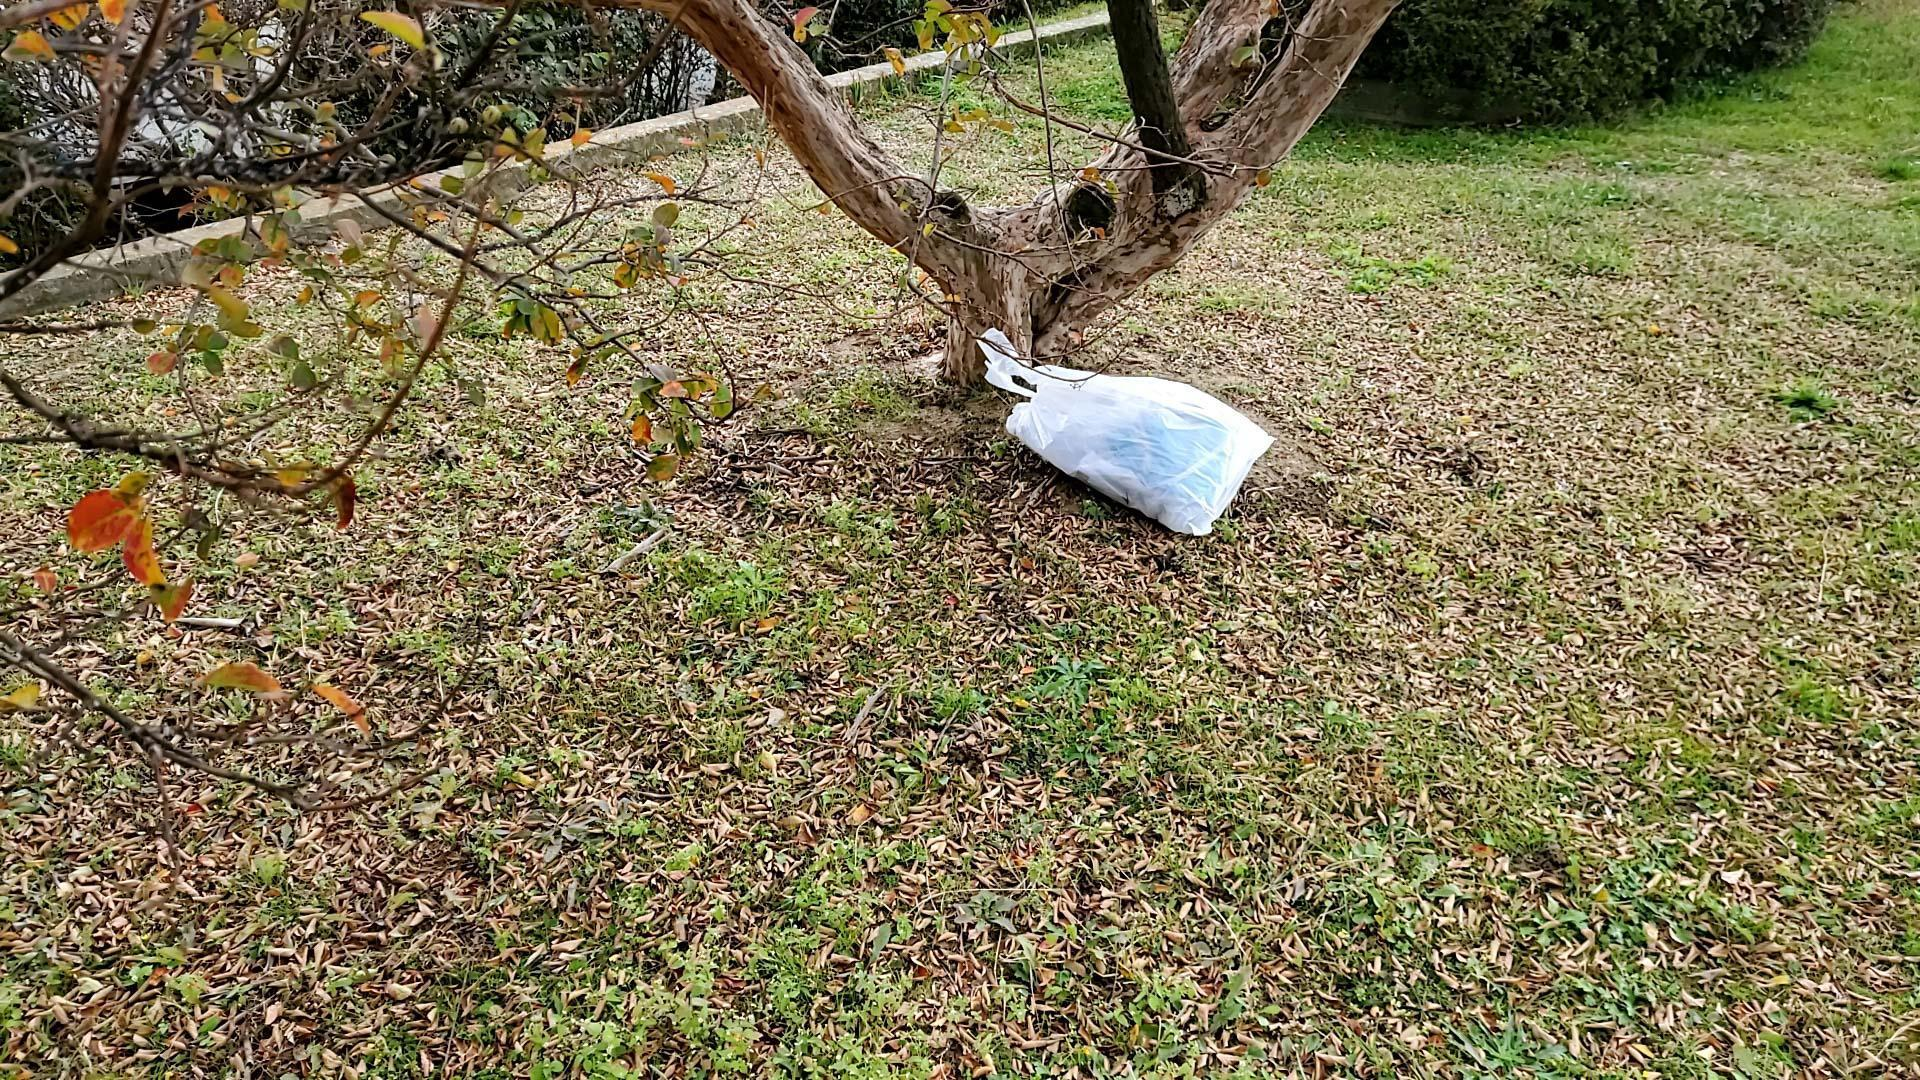white_bag: (956, 316, 1291, 564)
